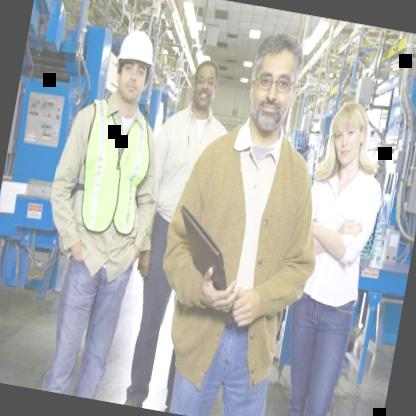head: (235, 26, 314, 139), (321, 96, 377, 176), (187, 57, 225, 113)
helmet: (110, 25, 159, 104)
